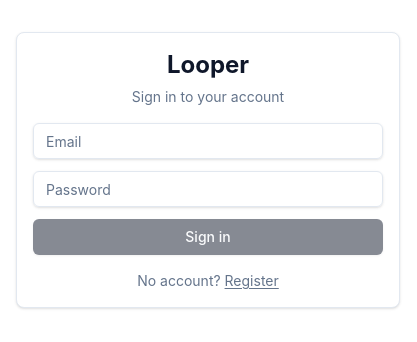
it: <LoginPage /> › shows error message on failure
Type "a@b.co" into the field with placeholder "Email".
click(208, 141); type("a@b.co")  # box [33, 123, 383, 159]
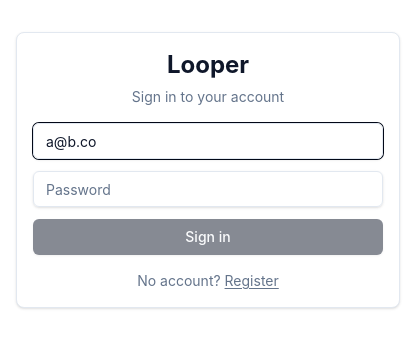
Type "pw12345" into the password field with placeholder "Password".
click(208, 189); type("pw12345")  # box [33, 171, 383, 207]
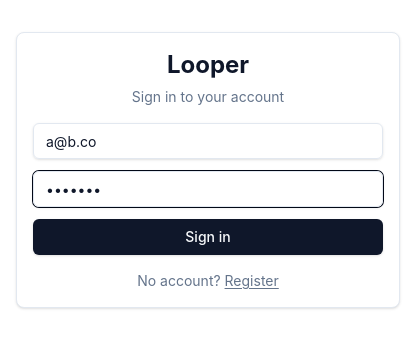
Click the button "Sign in".
click(208, 237)  # box [33, 219, 383, 255]
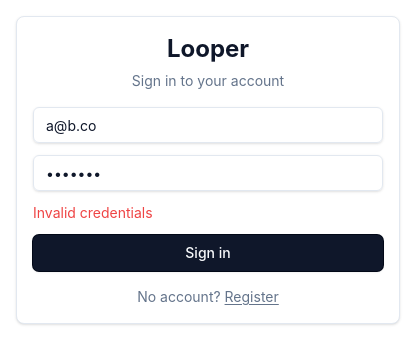
Expected: the message reads "Invalid credentials", [33, 204, 153, 221]
